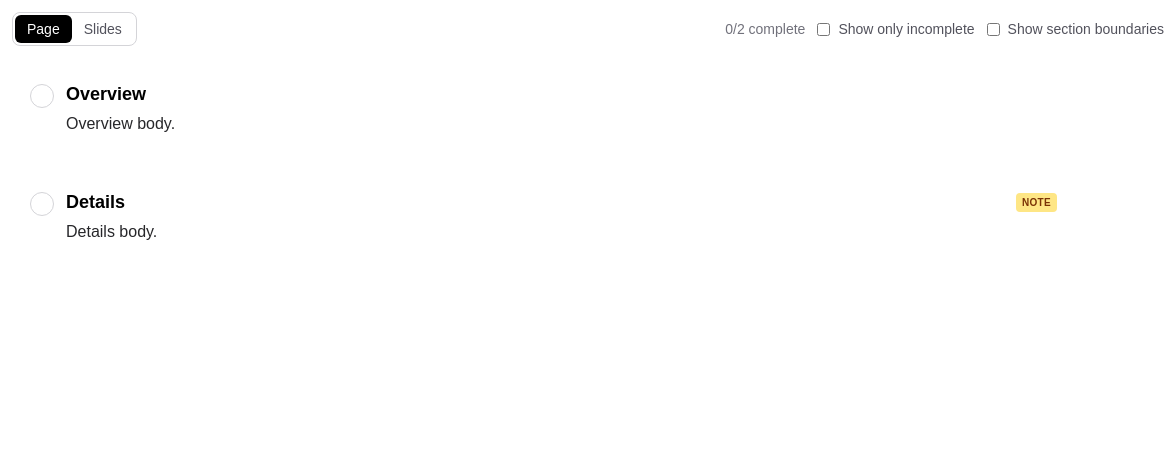
ContentBlocks › completion tracking › 'Jump to next incomplete slide' moves to the next slide that isn't done yet
This screenshot has width=1176, height=449.
Click the button "Slides" at (103, 29), box [72,15,134,43]
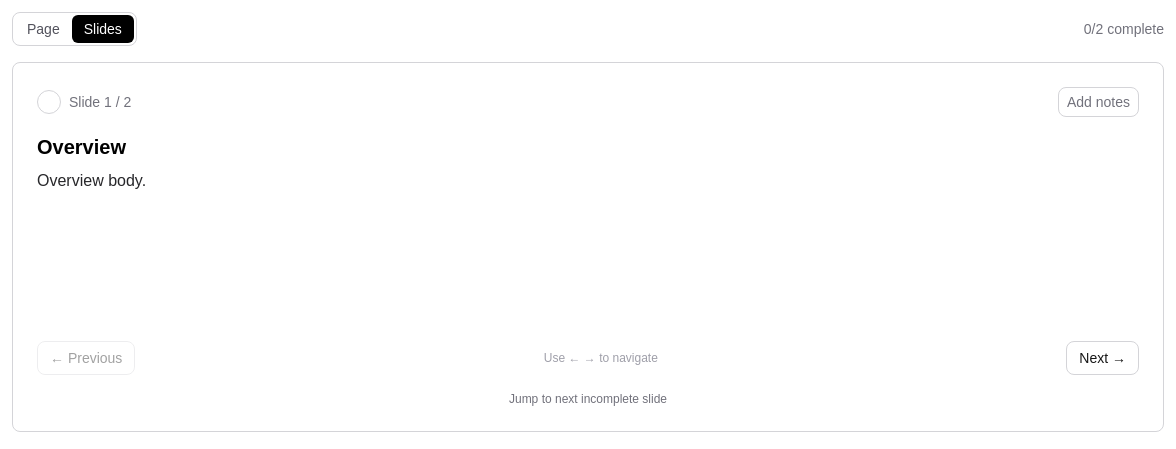
Click the button named "Mark as done" at (49, 102), box [37,90,61,114]
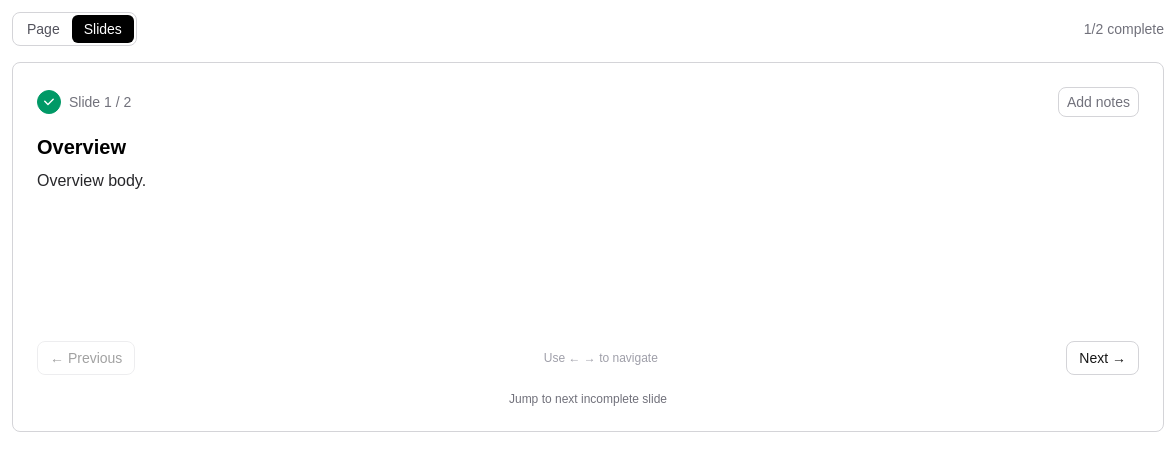
Click the button "Jump to next incomplete slide" at (588, 399), box [509,391,667,407]
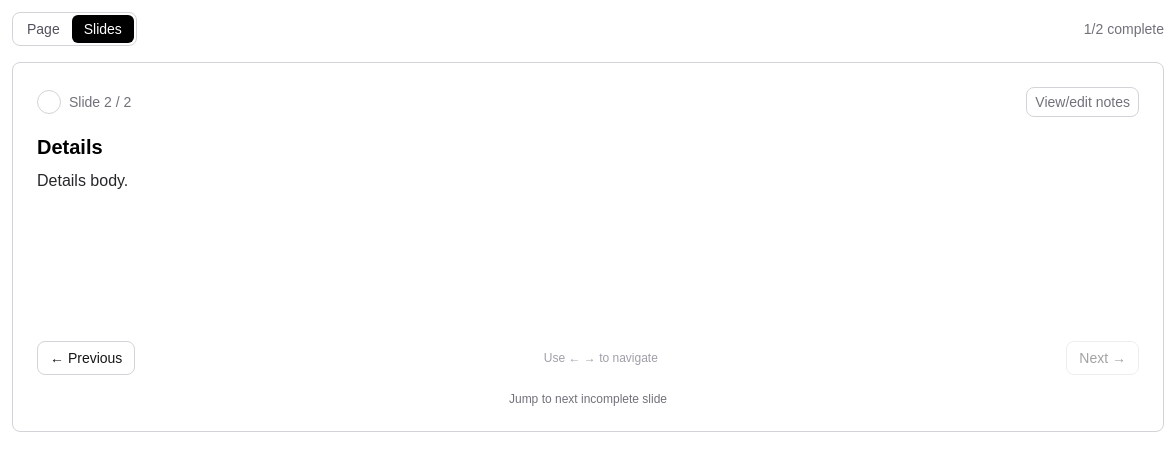
Check: the text "Slide 2 / 2" is shown, box [37,90,131,114]
